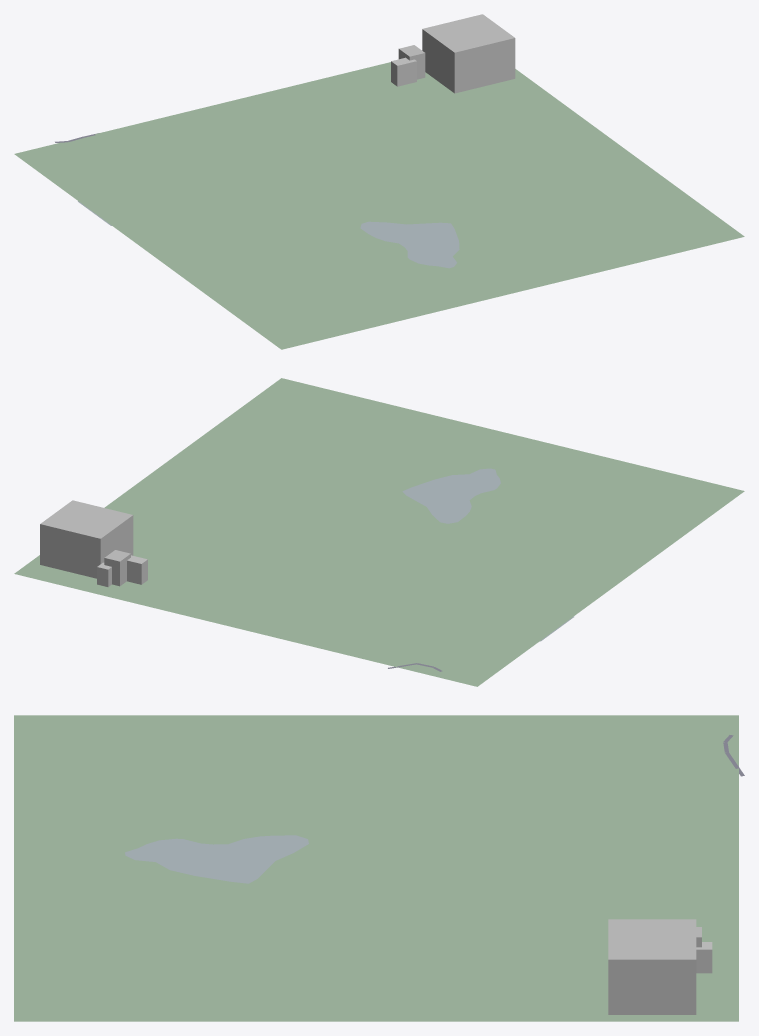
File: 130_82_mid.glb
The picture shows the model from 3 angles, top to bottom: view 1: azimuth 30°, elevation 25°; view 2: azimuth 150°, elevation 25°; view 3: azimuth 270°, elevation 25°; orthographic projection. The views are drawn at different scales.
Bounding box in the file's own units: 500 × 44.1 × 504.
